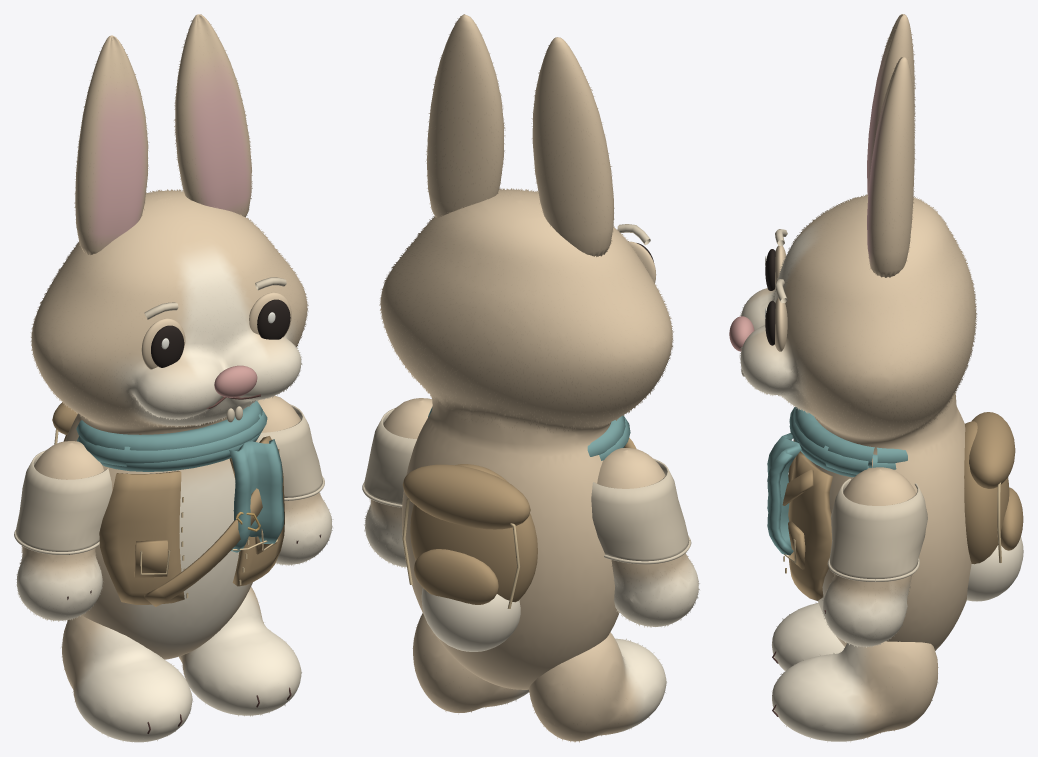
File: rabbit_softtoy.glb
3 renders of one model, left to right at view 1: azimuth 30°, elevation 25°; view 2: azimuth 150°, elevation 25°; view 3: azimuth 270°, elevation 25°, orthographic. The views are drawn at different scales.
Parts seen in each view (by area): view 1: ContinuousSculptBody, SculptFaceAndClothing, ClothedPalm_L, PlushEar_L, PlushEar_R, Paw_L, Paw_R, ClothedPalm_R, ScarfTailWoven, PhysicalShortFur, EyeSurface_L, EyeSurface_R; view 2: ContinuousSculptBody, SculptFaceAndClothing, ClothedPalm_L, PlushEar_L, PlushEar_R, Paw_L, PhysicalShortFur, ClothedPalm_R, Paw_R, PhysicalShortFur.006, PhysicalShortFur.003; view 3: ContinuousSculptBody, SculptFaceAndClothing, ClothedPalm_R, Paw_R, PlushEar_R, PhysicalShortFur, Paw_L, ScarfTailWoven, PlushEar_L, PhysicalShortFur.004.
Boxes of the visible parts, bbox=[...] form: ContinuousSculptBody: bbox=[31, 190, 307, 659]; SculptFaceAndClothing: bbox=[52, 277, 291, 606]; ClothedPalm_L: bbox=[14, 441, 111, 620]; PlushEar_L: bbox=[75, 35, 148, 254]; PlushEar_R: bbox=[175, 14, 251, 217]; Paw_L: bbox=[62, 615, 192, 742]; Paw_R: bbox=[179, 586, 301, 715]; ClothedPalm_R: bbox=[257, 395, 331, 564]; ScarfTailWoven: bbox=[229, 439, 284, 552]; PhysicalShortFur: bbox=[30, 189, 308, 427]; EyeSurface_L: bbox=[151, 325, 184, 367]; EyeSurface_R: bbox=[257, 299, 290, 339]; ContinuousSculptBody: bbox=[380, 189, 672, 689]; SculptFaceAndClothing: bbox=[402, 224, 656, 651]; ClothedPalm_L: bbox=[591, 448, 698, 626]; PlushEar_L: bbox=[532, 37, 613, 256]; PlushEar_R: bbox=[427, 14, 503, 217]; Paw_L: bbox=[529, 632, 666, 741]; PhysicalShortFur: bbox=[379, 188, 673, 433]; ClothedPalm_R: bbox=[362, 398, 432, 567]; Paw_R: bbox=[413, 613, 529, 712]; PhysicalShortFur.006: bbox=[425, 16, 505, 214]; PhysicalShortFur.003: bbox=[531, 40, 614, 256]; ContinuousSculptBody: bbox=[740, 195, 975, 650]; SculptFaceAndClothing: bbox=[729, 229, 1023, 601]; ClothedPalm_R: bbox=[823, 467, 927, 646]; Paw_R: bbox=[772, 641, 937, 741]; PlushEar_R: bbox=[867, 56, 914, 277]; PhysicalShortFur: bbox=[739, 194, 977, 438]; Paw_L: bbox=[772, 603, 844, 670]; ScarfTailWoven: bbox=[767, 433, 801, 555]; PlushEar_L: bbox=[867, 14, 914, 195]; PhysicalShortFur.004: bbox=[822, 574, 912, 647].
Size of the model in its own units: 1.56 by 3.26 by 1.29.
